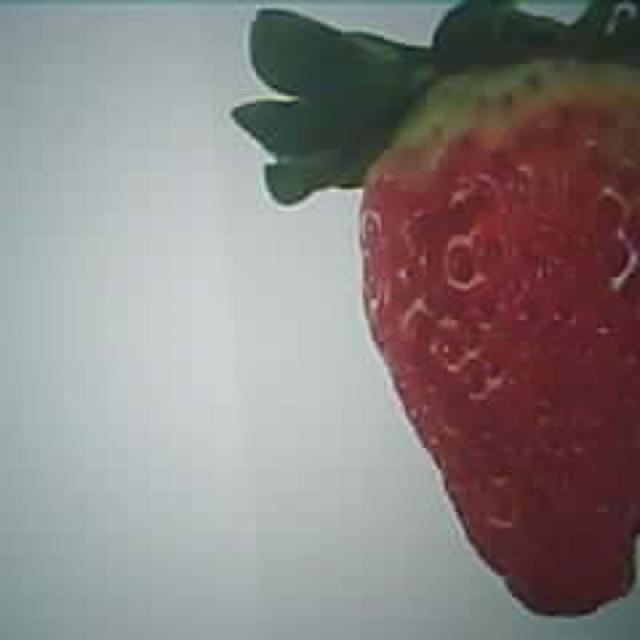strawberry: (361, 50, 640, 620)
